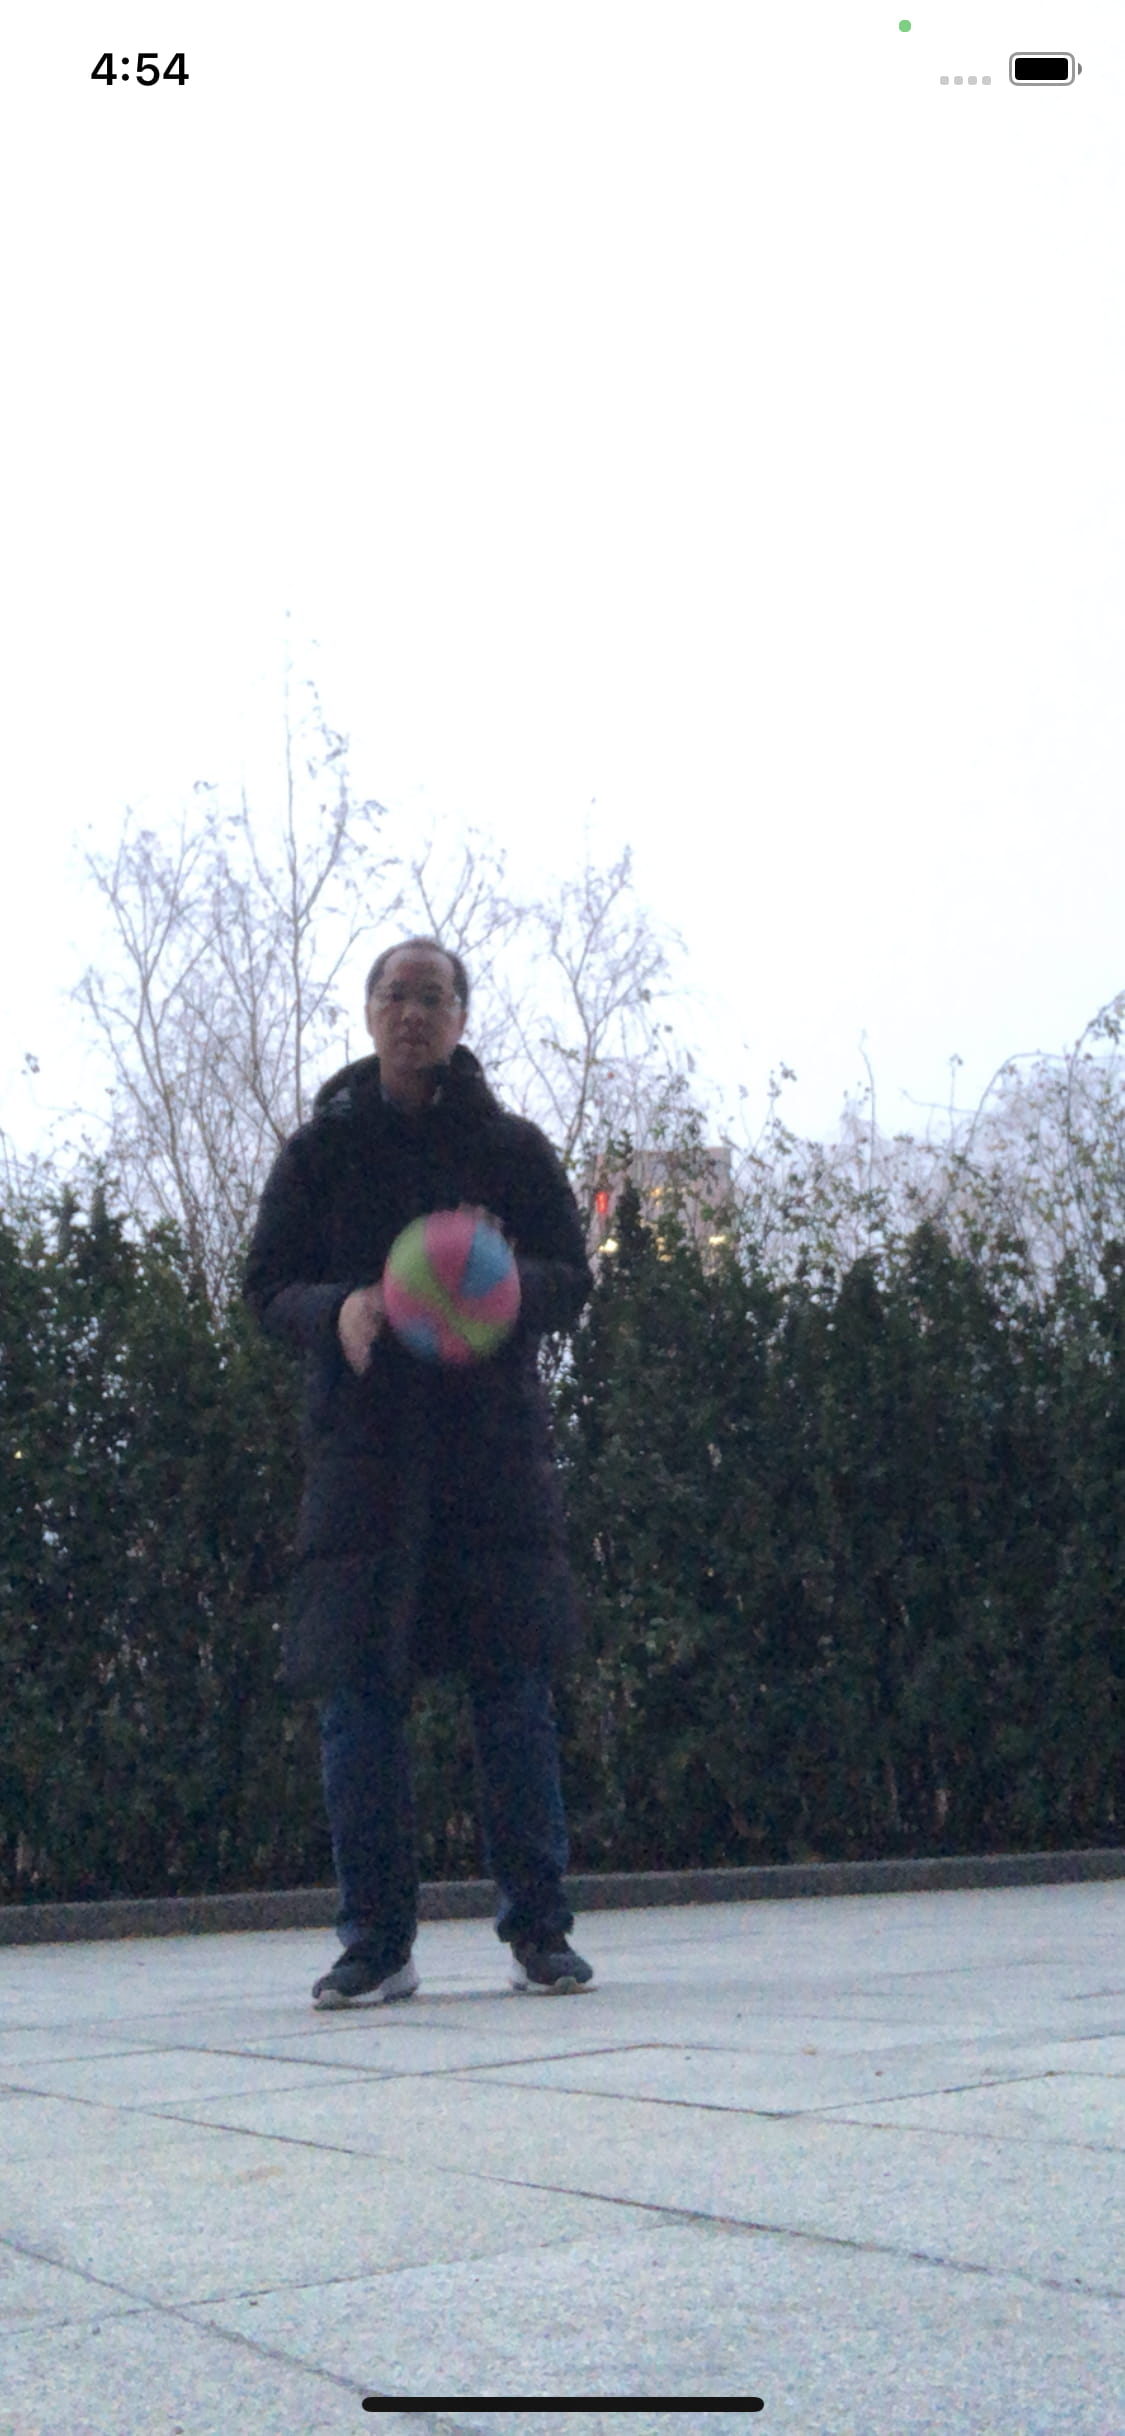ball: (382, 1209, 517, 1366)
